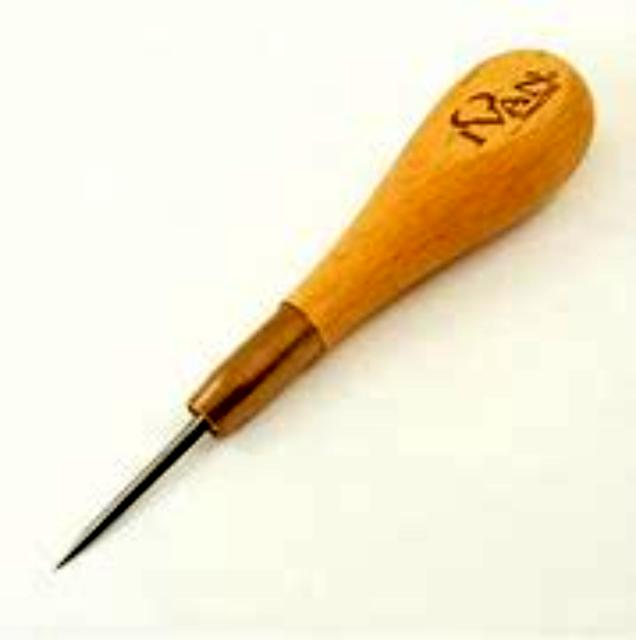ice pick: (54, 50, 600, 572)
